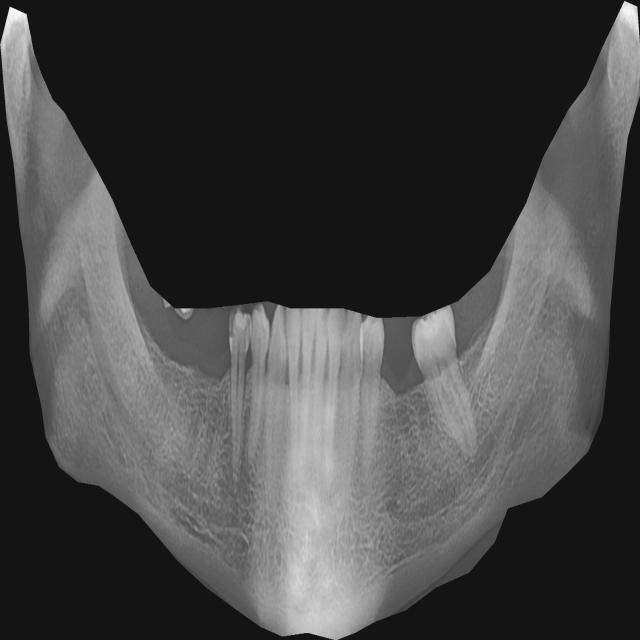mandibula: (0, 1, 640, 640)
